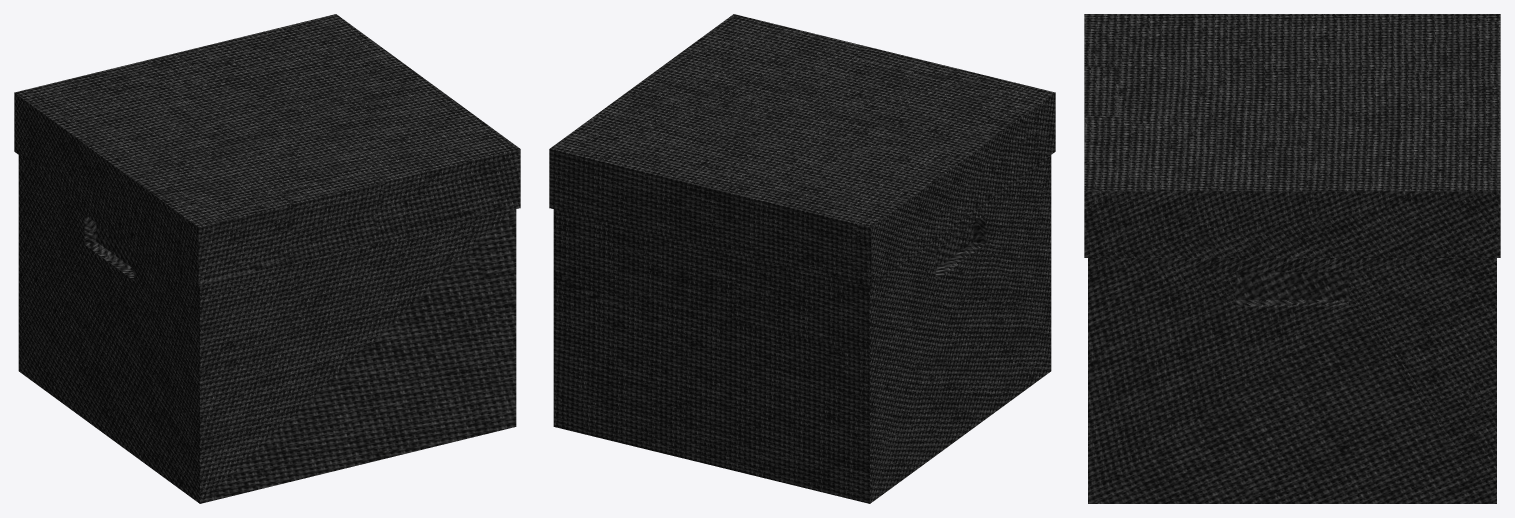
The model's file is clothesbox_small.fbx.
3 views of the same model, side by side, from view 1: azimuth 30°, elevation 25°; view 2: azimuth 150°, elevation 25°; view 3: azimuth 270°, elevation 25° (orthographic). The views are drawn at different scales.
Visible parts, largest first — view 1: pCube64; view 2: pCube64; view 3: pCube64.
Part boxes in pixels (x1=…): pCube64: x1=14, y1=14, x2=520, y2=503; pCube64: x1=549, y1=14, x2=1055, y2=503; pCube64: x1=1084, y1=14, x2=1500, y2=503.
Size of the model in its own units: 0.0178 by 0.0147 by 0.0177.
1 material, 1 textured.
